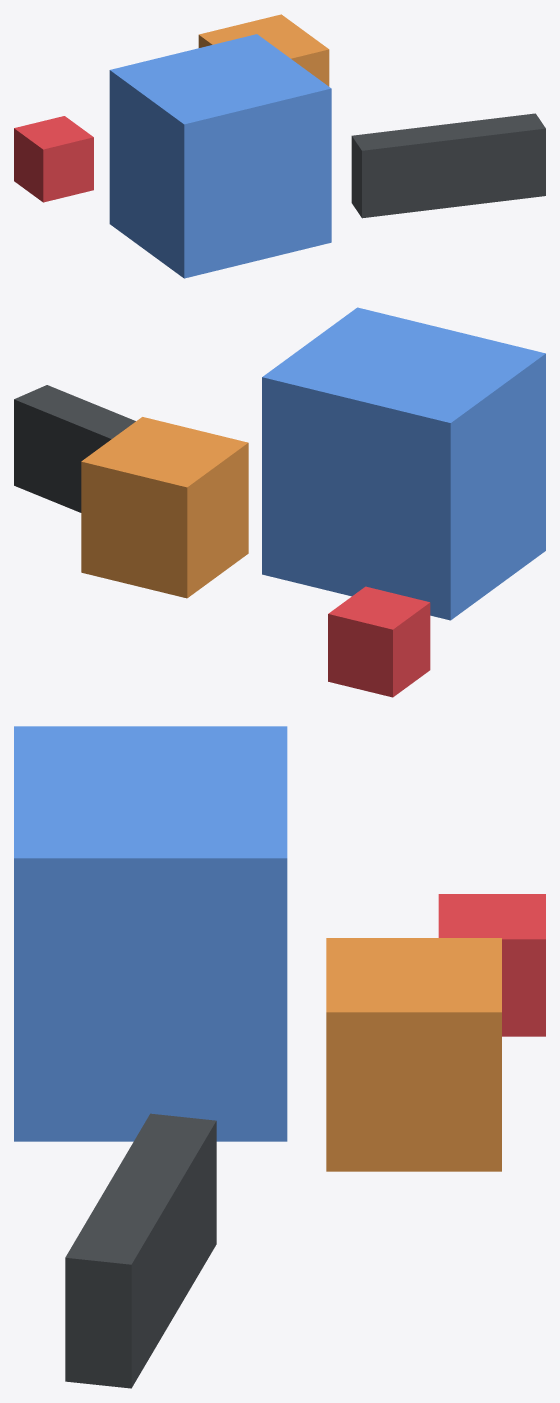
The model's file is pipeline_features.gltf.
3 renders of one model, top to bottom at view 1: azimuth 30°, elevation 25°; view 2: azimuth 150°, elevation 25°; view 3: azimuth 270°, elevation 25°, orthographic. The views are drawn at different scales.
Visible parts, largest first — view 1: ReflectionProbeBounds, StaticRamp, TemporaryBlock-discard, DynamicCargo; view 2: ReflectionProbeBounds, DynamicCargo, TemporaryBlock-discard, StaticRamp; view 3: ReflectionProbeBounds, DynamicCargo, StaticRamp, TemporaryBlock-discard.
Boxes of the visible parts, x1,y1,x2,y2 form: ReflectionProbeBounds: [109, 34, 331, 278]; StaticRamp: [351, 113, 545, 218]; TemporaryBlock-discard: [14, 116, 93, 202]; DynamicCargo: [198, 14, 329, 86]; ReflectionProbeBounds: [262, 307, 545, 620]; DynamicCargo: [81, 417, 248, 598]; TemporaryBlock-discard: [328, 586, 430, 697]; StaticRamp: [14, 385, 135, 512]; ReflectionProbeBounds: [14, 726, 287, 1141]; DynamicCargo: [326, 938, 501, 1171]; StaticRamp: [65, 1113, 216, 1388]; TemporaryBlock-discard: [438, 894, 545, 1036].
Size of the model in its own units: 4.44 by 1.8 by 2.72.
